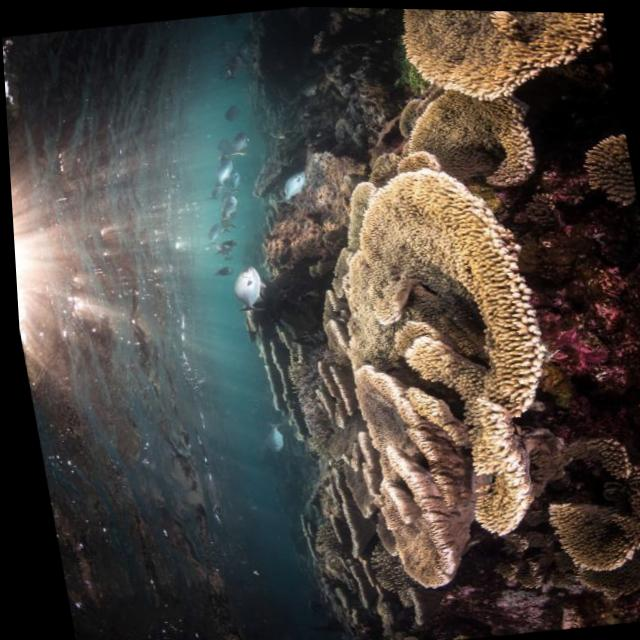Healthy Coral: (264, 71, 604, 573), (384, 7, 615, 104), (533, 425, 640, 609)
